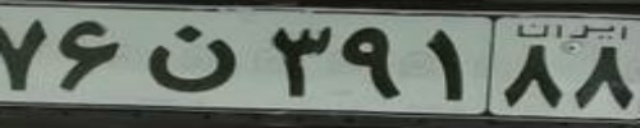1: (423, 28, 464, 101)
3: (272, 27, 329, 99)
6: (60, 19, 119, 90)
7: (0, 14, 48, 91)
8: (571, 45, 634, 111), (501, 42, 563, 108)
9: (340, 25, 398, 99)
non: (142, 23, 238, 93)
